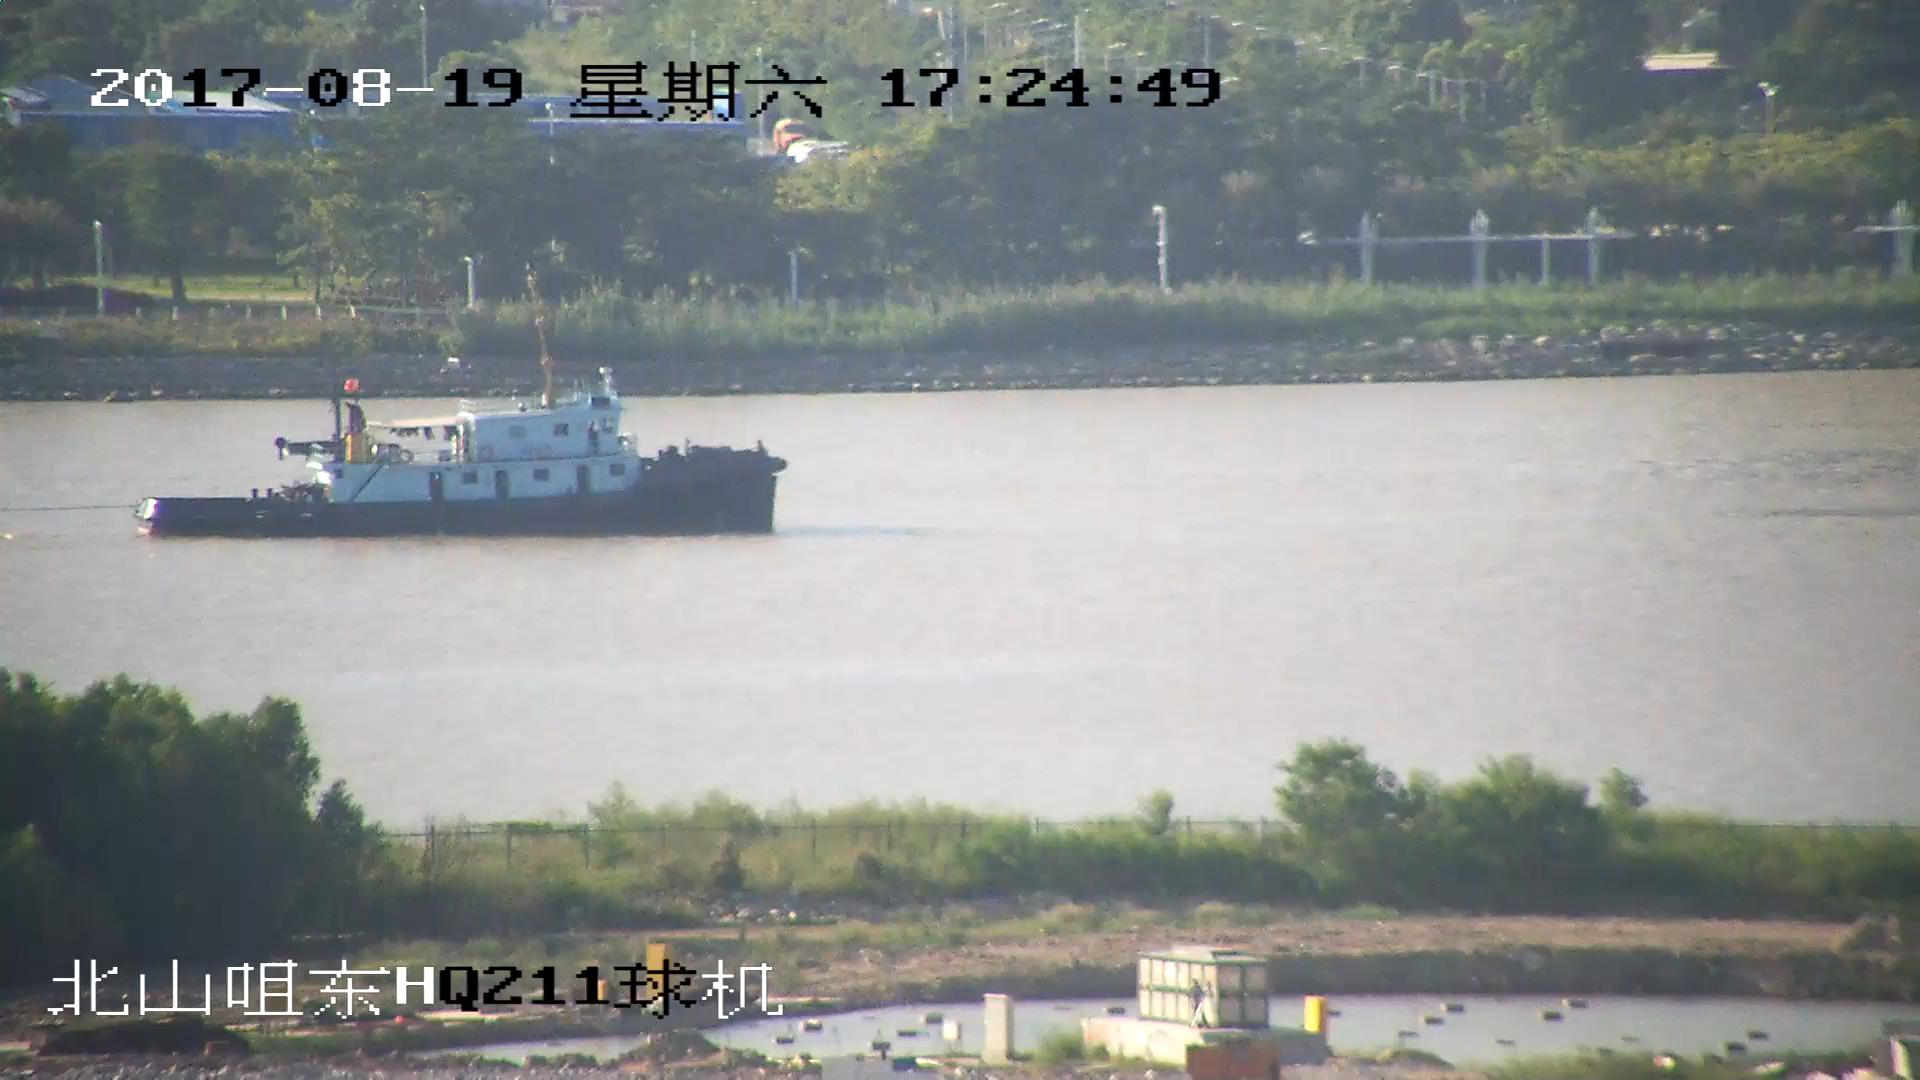fishing boat: (138, 358, 783, 532)
